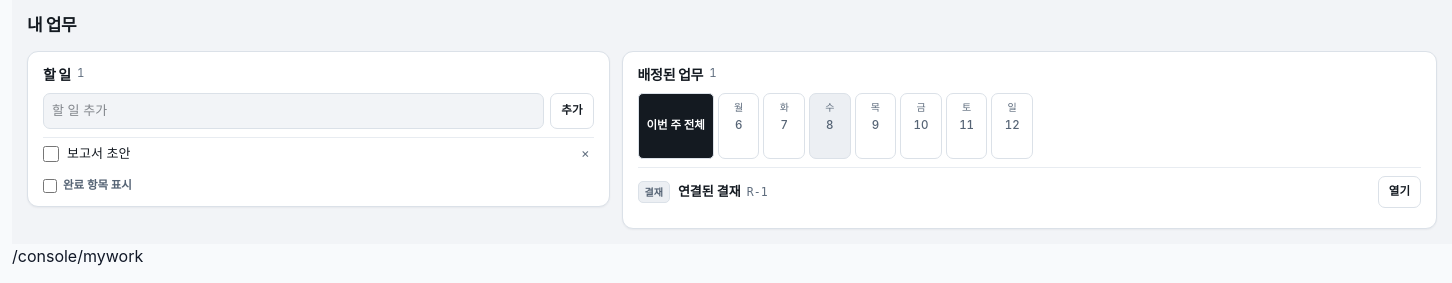
Test: MyWorkBody › routes through the first recognized source-object link, never the action kind guess
Click the button "열기": (1399, 192) top-left (1378, 176), bottom-right (1421, 208)
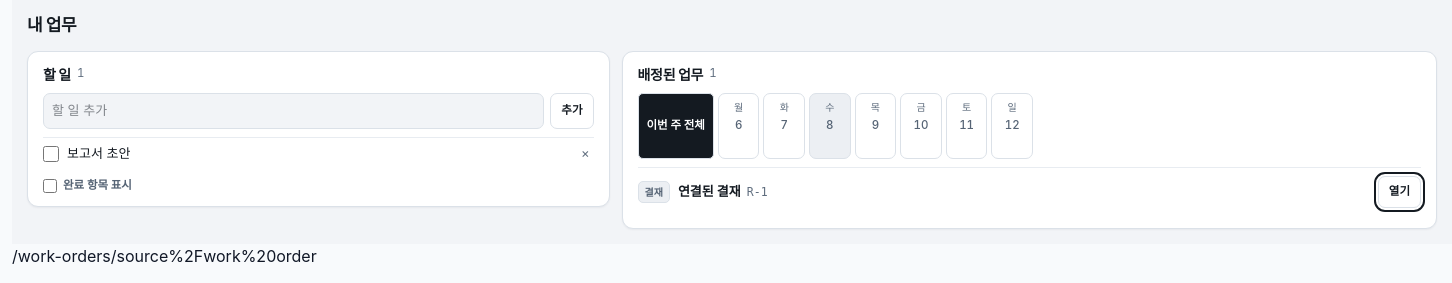
Now the text "/work-orders/source%2Fwork%20order" is shown, box top-left (12, 246), bottom-right (317, 266)
